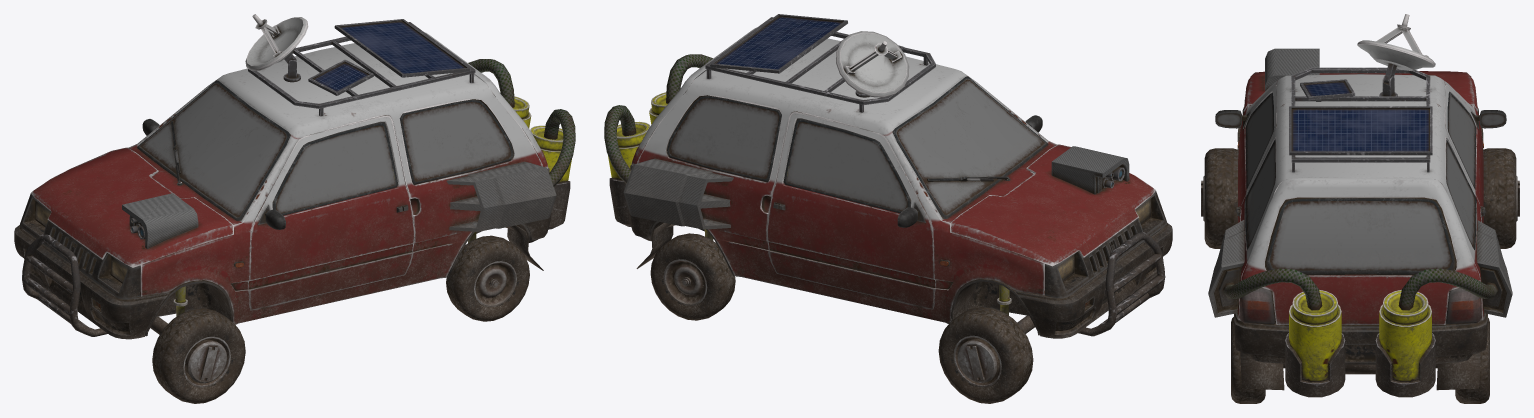
The model's file is Oka.fbx.
3 views of the same model, side by side, from view 1: azimuth 30°, elevation 25°; view 2: azimuth 150°, elevation 25°; view 3: azimuth 270°, elevation 25° (orthographic). The views are drawn at different scales.
Parts seen in each view (by area): view 1: Ока, КолесоПередЛев, КолесоЗадЛев; view 2: Ока, КолесоПередПрав, КолесоЗадПрав; view 3: Ока, КолесоПередЛев, КолесоПередПрав, КолесоЗадЛев, КолесоЗадПрав.
Boxes of the visible parts, x1=… form: Ока: x1=14, y1=14, x2=575, y2=339; КолесоПередЛев: x1=152, y1=308, x2=245, y2=403; КолесоЗадЛев: x1=446, y1=235, x2=529, y2=321; Ока: x1=604, y1=14, x2=1172, y2=338; КолесоПередПрав: x1=938, y1=307, x2=1033, y2=403; КолесоЗадПрав: x1=650, y1=233, x2=735, y2=320; Ока: x1=1208, y1=14, x2=1512, y2=397; КолесоПередЛев: x1=1201, y1=148, x2=1237, y2=248; КолесоПередПрав: x1=1483, y1=148, x2=1519, y2=248; КолесоЗадЛев: x1=1231, y1=317, x2=1265, y2=403; КолесоЗадПрав: x1=1455, y1=318, x2=1489, y2=403.
Bounding box in the file's own units: 374 × 204 × 194.
